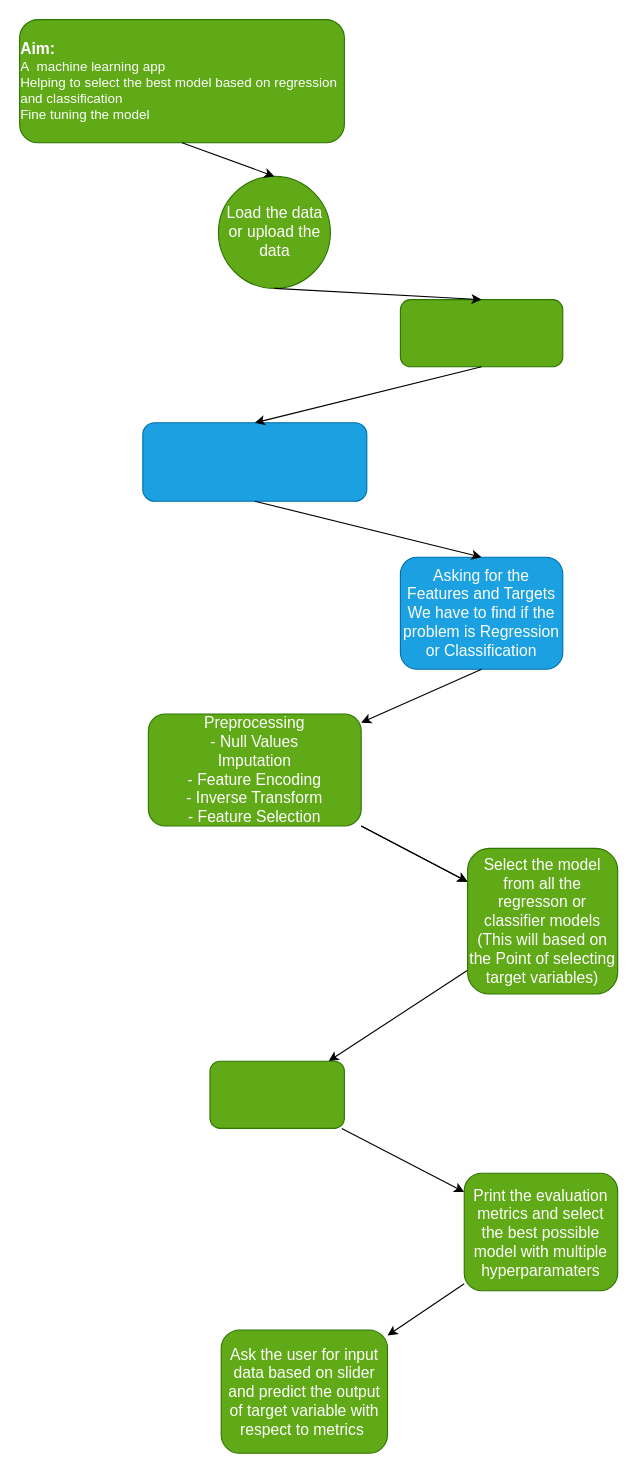
The diagram is 637 pixels wide and 1473 high, and some of its shapes have lost their labels. The centre of each missing label's shape, as x and y in pixels:
Add the evaluation metrics based on problem: point 276,1094
Check the column names and data types: point 254,461
Example Data Button: point 481,332
